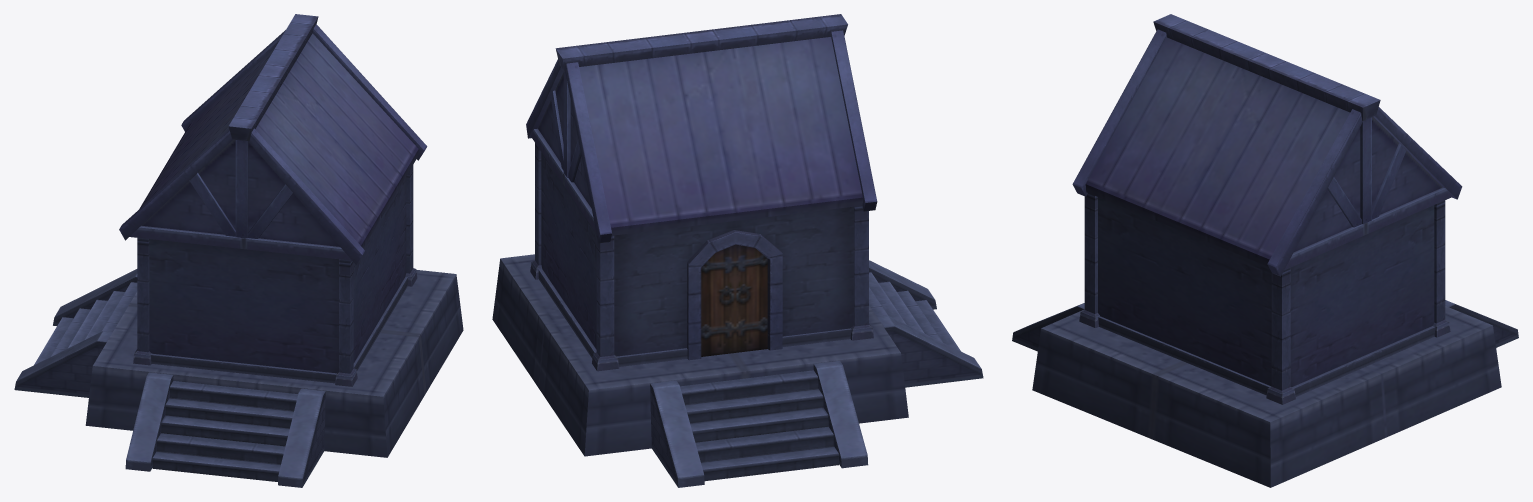
The model's file is Area13_9.fbx.
3 renders of one model, left to right at view 1: azimuth 30°, elevation 25°; view 2: azimuth 150°, elevation 25°; view 3: azimuth 270°, elevation 25°, orthographic. The views are drawn at different scales.
Visible parts, largest first — view 1: Area13_9; view 2: Area13_9; view 3: Area13_9.
Boxes of the visible parts, bbox=[...] form: Area13_9: bbox=[14, 14, 463, 487]; Area13_9: bbox=[492, 14, 983, 487]; Area13_9: bbox=[1012, 14, 1518, 487].
Size of the model in its own units: 1372 by 1014 by 1419.
